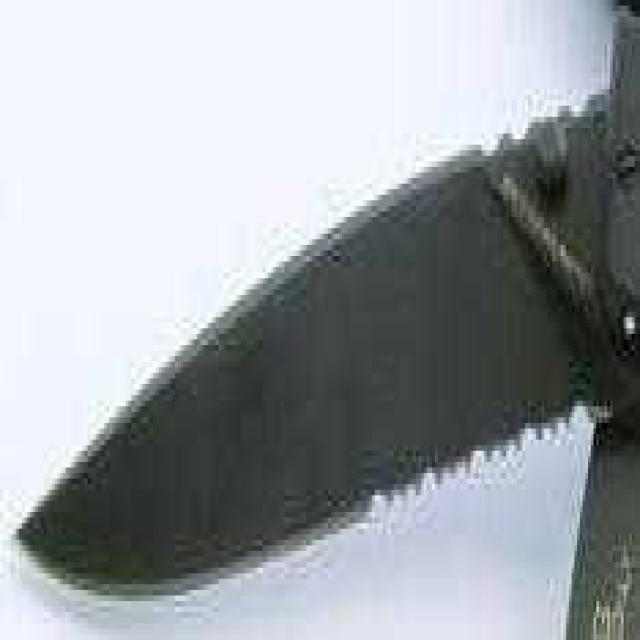Knife: (3, 0, 640, 630)
